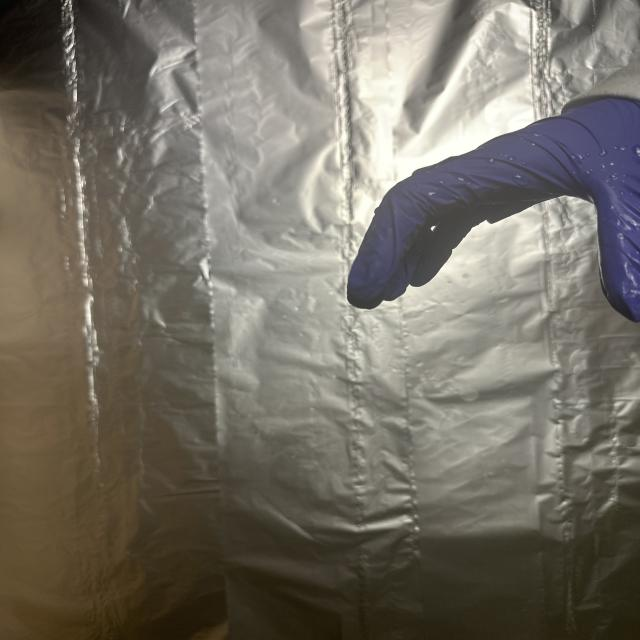gloves_contaminated: (347, 90, 640, 322)
